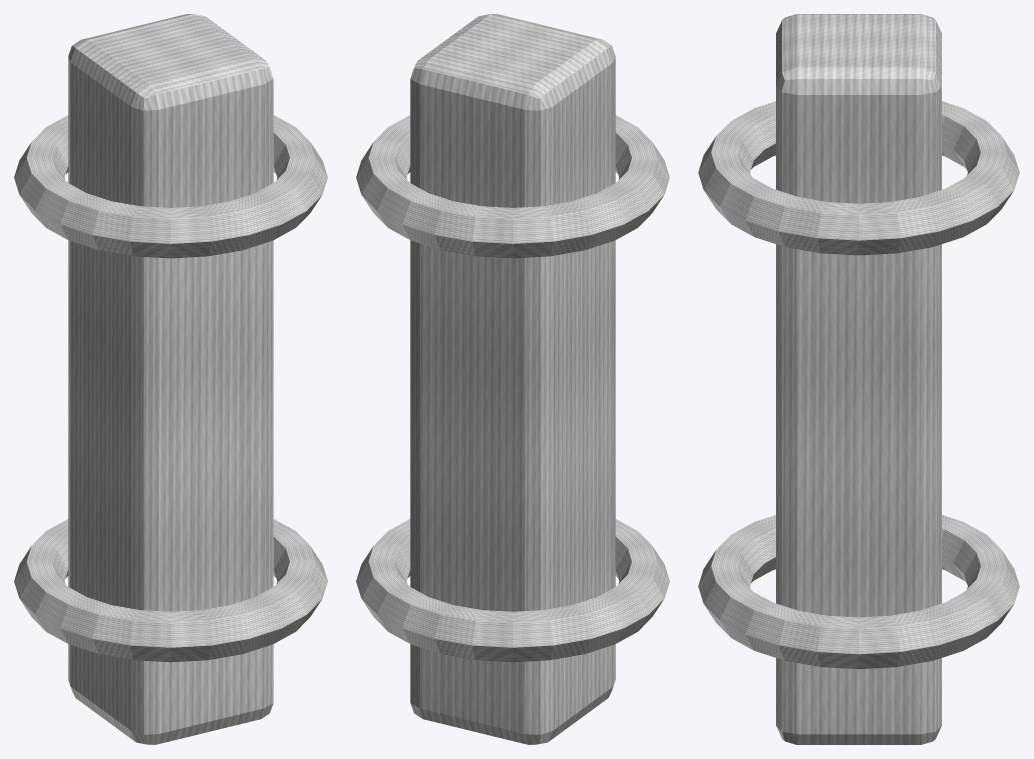
Rendered from item-steel-pipe_variant_a.glb.
3 views of the same model, side by side, from view 1: azimuth 30°, elevation 25°; view 2: azimuth 150°, elevation 25°; view 3: azimuth 270°, elevation 25° (orthographic). The views are drawn at different scales.
Parts seen in each view (by area): view 1: Long component, Machined collar.002, Machined collar.001; view 2: Long component, Machined collar.002, Machined collar.001; view 3: Long component, Machined collar.002, Machined collar.001.
Part boxes in pixels (x1,y1,x2,y2): Long component: (68,14,273,744); Machined collar.002: (14,115,327,258); Machined collar.001: (14,519,327,662); Long component: (410,14,615,744); Machined collar.002: (356,115,669,258); Machined collar.001: (356,519,669,662); Long component: (776,14,941,744); Machined collar.002: (698,101,1019,255); Machined collar.001: (698,515,1019,669).
Size of what is drawn, in the model's own units: 0.31 by 0.72 by 0.31.
2 materials, 2 textured.
